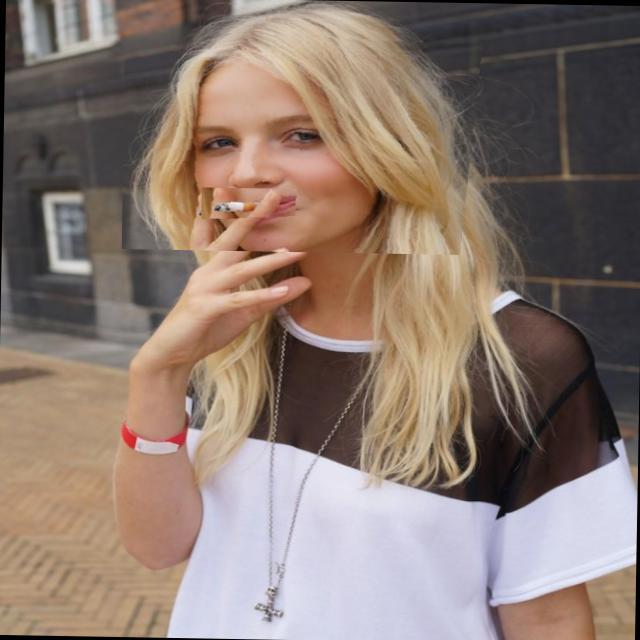cigarette: (200, 187, 296, 221)
